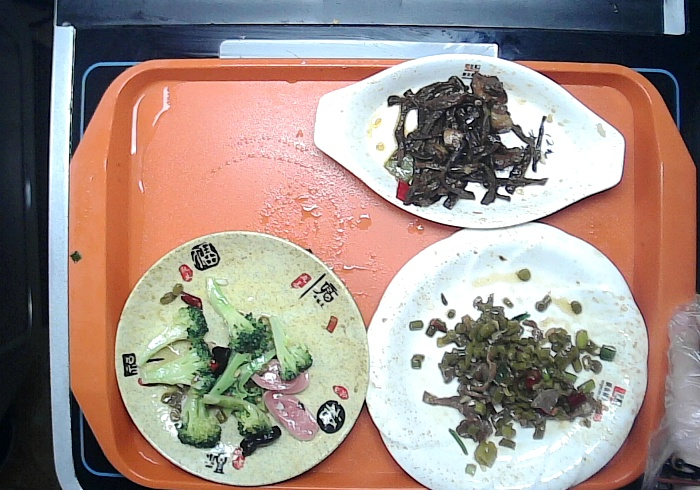NLDX-Bai_Zhe_Yuan_Pan: (361, 219, 653, 490)
NLDX-Fu_Zi_Yuan_Pan: (107, 226, 373, 489)
NLDX-Yu_Pan: (305, 49, 631, 234)
